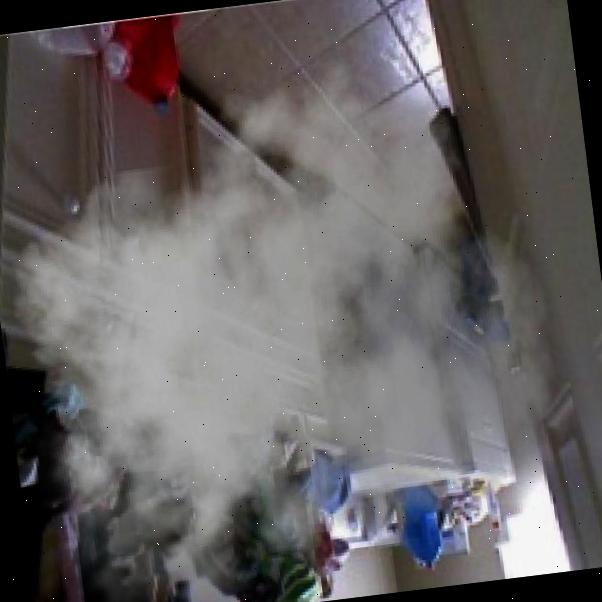smoke: (92, 196, 392, 506)
